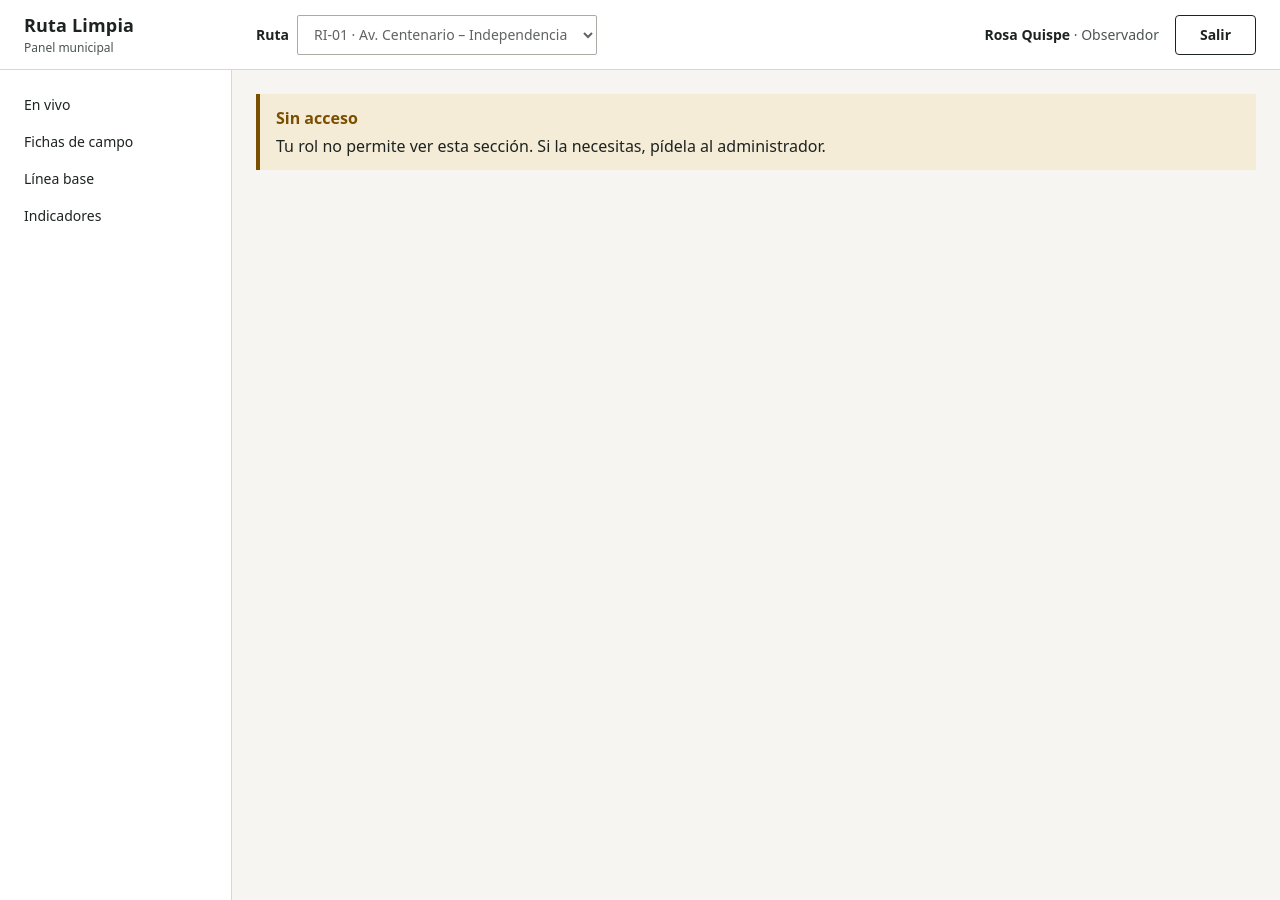
Test: panel sign-in and session › shows only the sections of the role, and signs out
The image size is (1280, 900).
Check: the text "Sin acceso" is shown, box [276,107,358,129]
Check: the text "Rosa Quispe" is shown, box [984,25,1070,44]
Click the button "Salir" at (1215, 34), box [1175,14,1256,54]
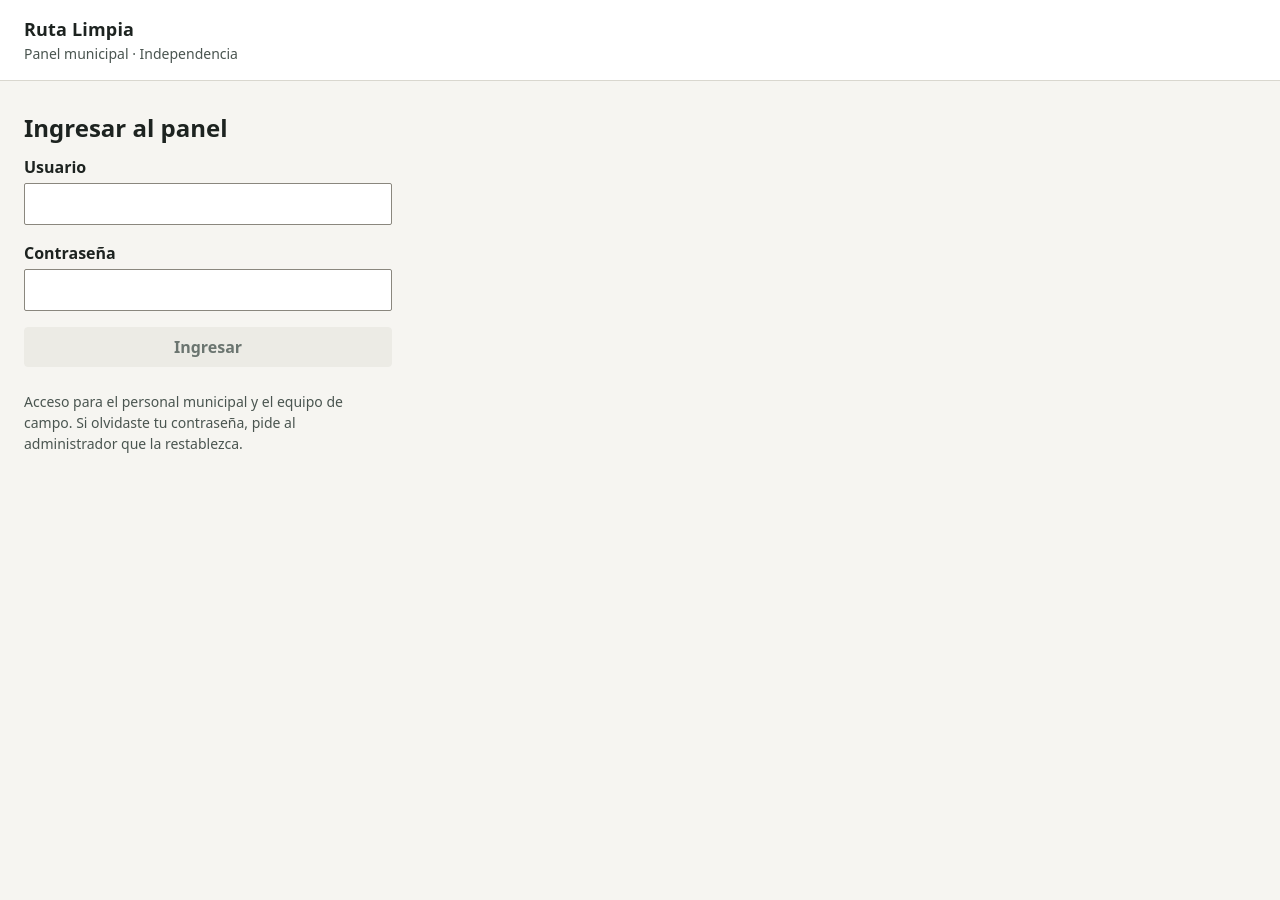
Check: the heading "Ingresar al panel" is shown, box [24,111,228,144]
